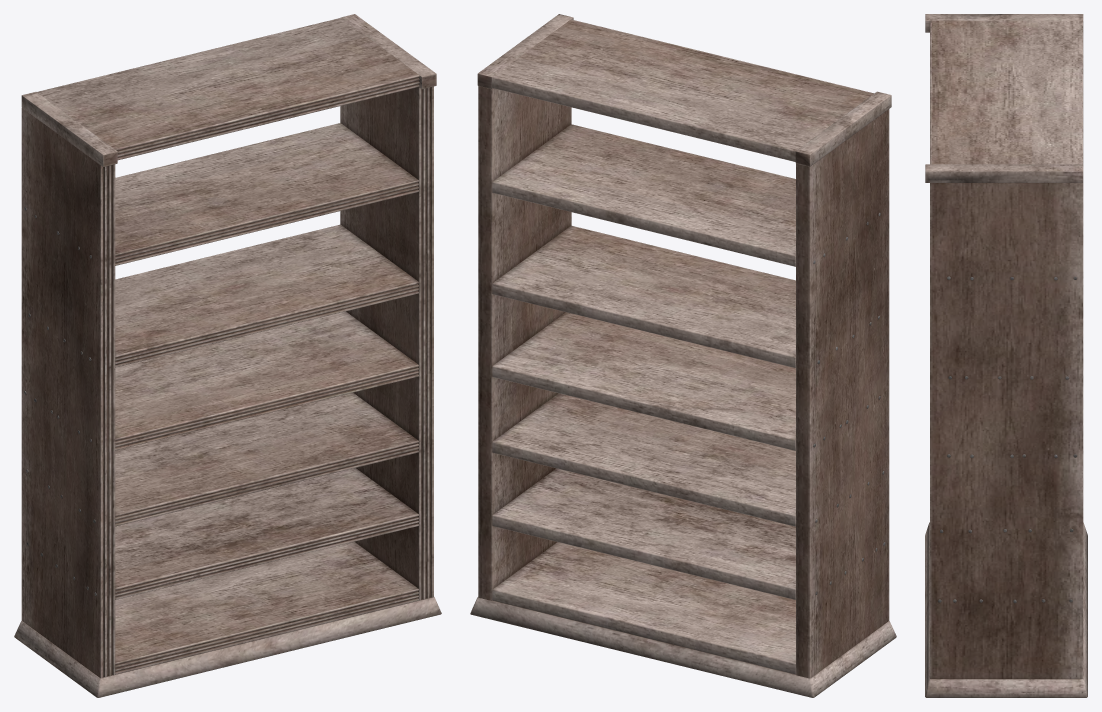
The model's file is wooden_bookshelf_worn.glb.
3 views of the same model, side by side, from view 1: azimuth 30°, elevation 25°; view 2: azimuth 150°, elevation 25°; view 3: azimuth 270°, elevation 25° (orthographic). The views are drawn at different scales.
Visible parts, largest first — view 1: wooden_bookshelf_worn; view 2: wooden_bookshelf_worn; view 3: wooden_bookshelf_worn.
Part boxes in pixels (left/top/right/bottom): wooden_bookshelf_worn: left=14, top=14, right=441, bottom=697; wooden_bookshelf_worn: left=470, top=14, right=896, bottom=697; wooden_bookshelf_worn: left=925, top=14, right=1087, bottom=697.
Bounding box in the file's own units: 1.37 × 2.06 × 0.5814.
1 material, 1 textured.
